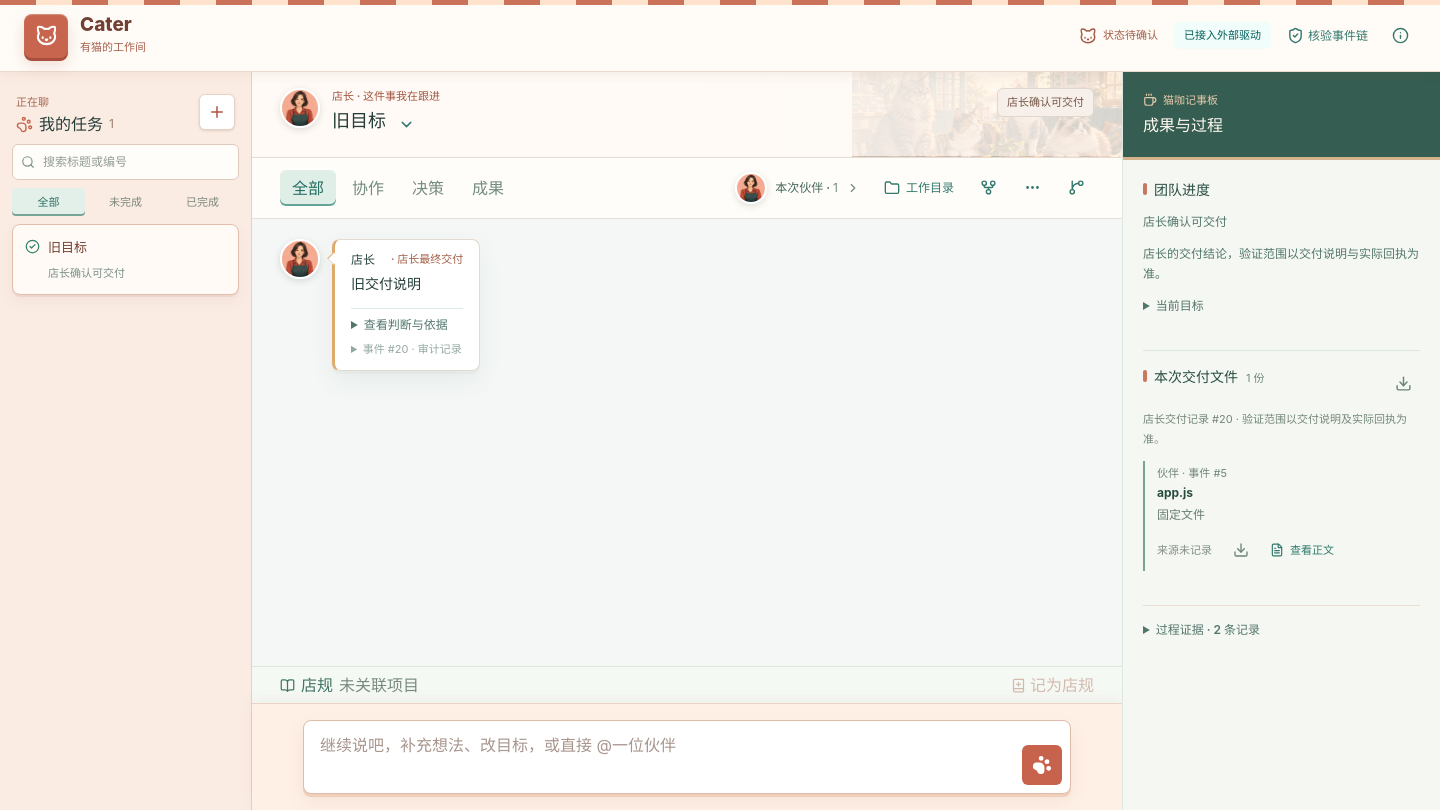
it: 摘要先收到新目标而详情挂起时撤销旧下载，迟到旧详情不能重新启用
This screenshot has width=1440, height=810.
Click the button named "下载本次交付包" at (1403,384), box [1386,366,1420,400]
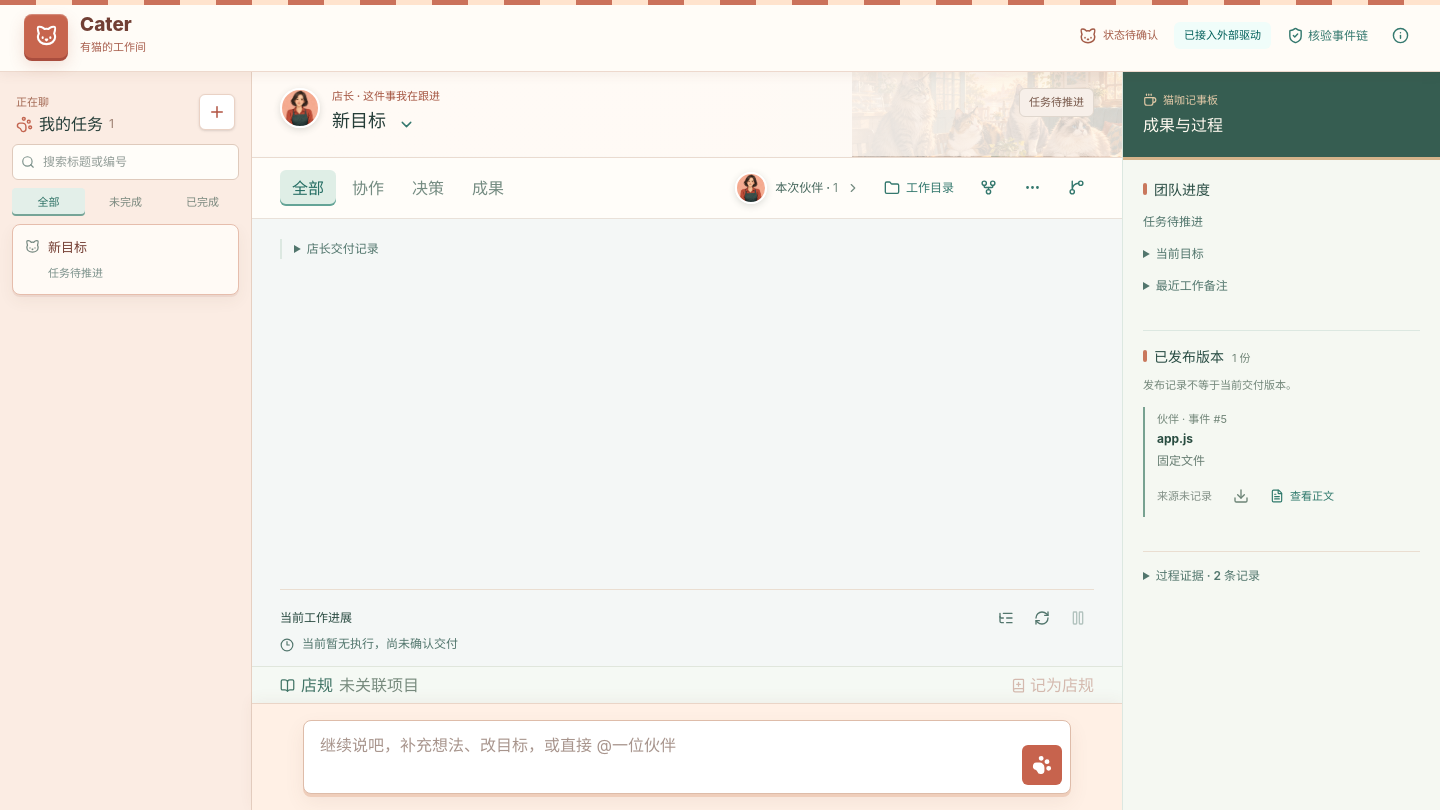
Result: the button "下载本次交付包" is gone
